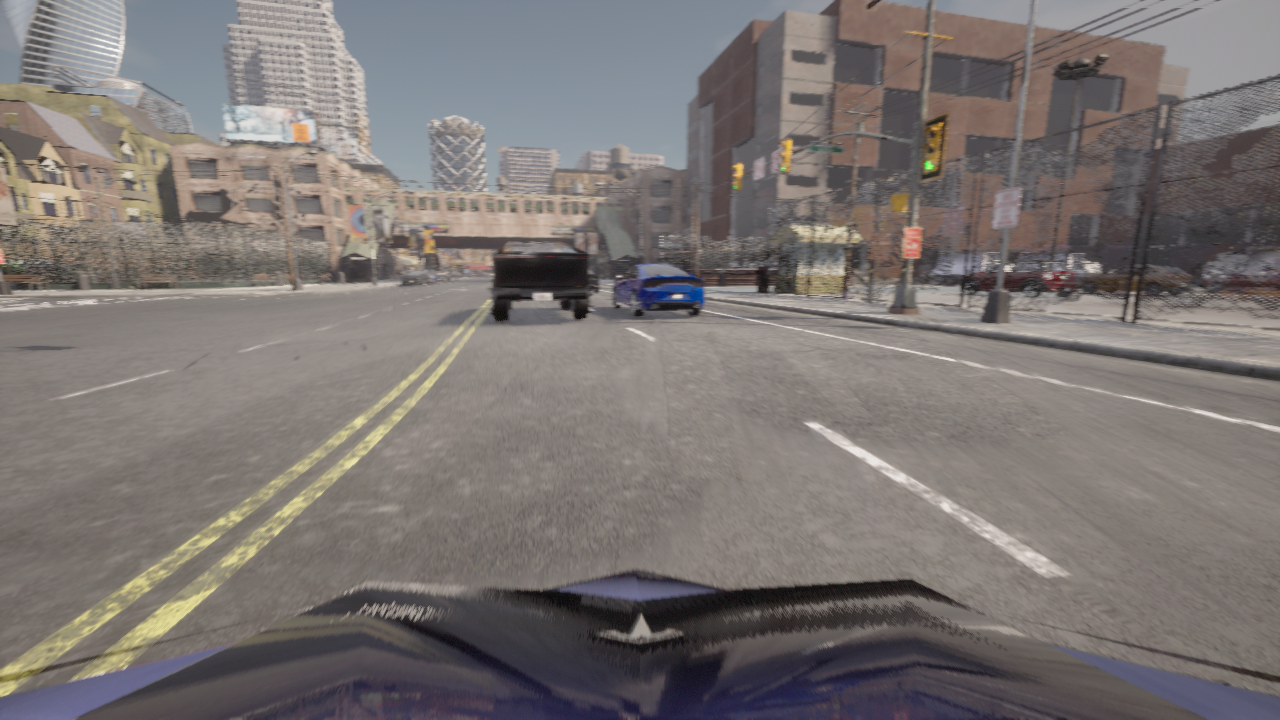cyclist: (0, 569, 1279, 719), (487, 242, 591, 321), (613, 262, 704, 316), (959, 259, 1078, 297), (1078, 265, 1191, 295), (1019, 253, 1101, 281), (931, 252, 999, 284), (1202, 252, 1279, 278), (1198, 270, 1279, 291), (402, 270, 429, 286), (421, 269, 439, 284), (588, 269, 598, 292), (436, 271, 452, 282), (456, 273, 462, 276), (453, 273, 455, 278)
